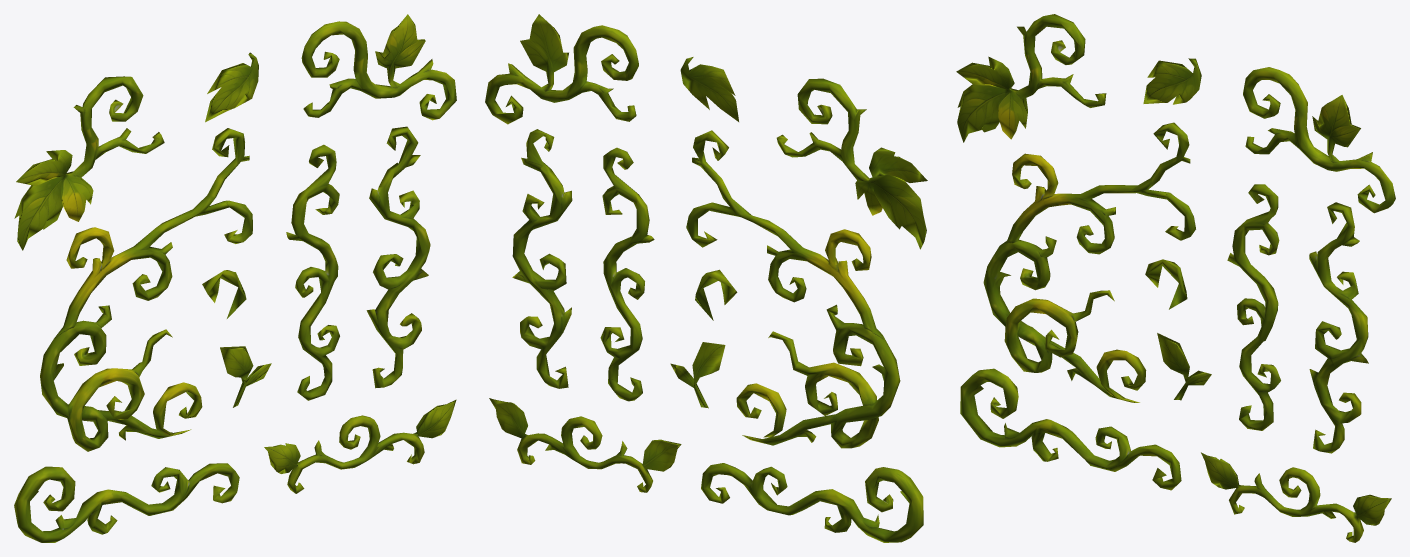
File: black_orange.glb
3 views of the same model, side by side, from view 1: azimuth 30°, elevation 25°; view 2: azimuth 150°, elevation 25°; view 3: azimuth 330°, elevation 25° (orthographic).
Visible parts, largest first — view 1: tripo_node_8a8aacec-4a2d-416f-add0-6d268afad711; view 2: tripo_node_8a8aacec-4a2d-416f-add0-6d268afad711; view 3: tripo_node_8a8aacec-4a2d-416f-add0-6d268afad711.
Boxes of the visible parts, box(x1,y1,x2,y2) form: tripo_node_8a8aacec-4a2d-416f-add0-6d268afad711: box(14, 14, 456, 542); tripo_node_8a8aacec-4a2d-416f-add0-6d268afad711: box(485, 14, 927, 542); tripo_node_8a8aacec-4a2d-416f-add0-6d268afad711: box(956, 14, 1395, 542).
Size of the model in its own units: 1 by 0.9954 by 0.0556.
Materials: 1 (1 with a texture image).
